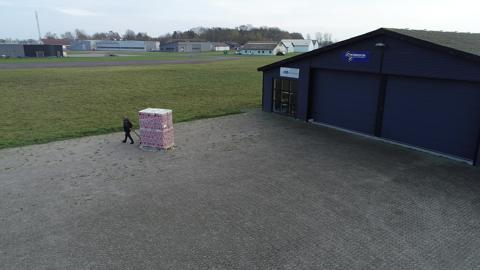RockwoolPallet: (138, 107, 174, 150)
